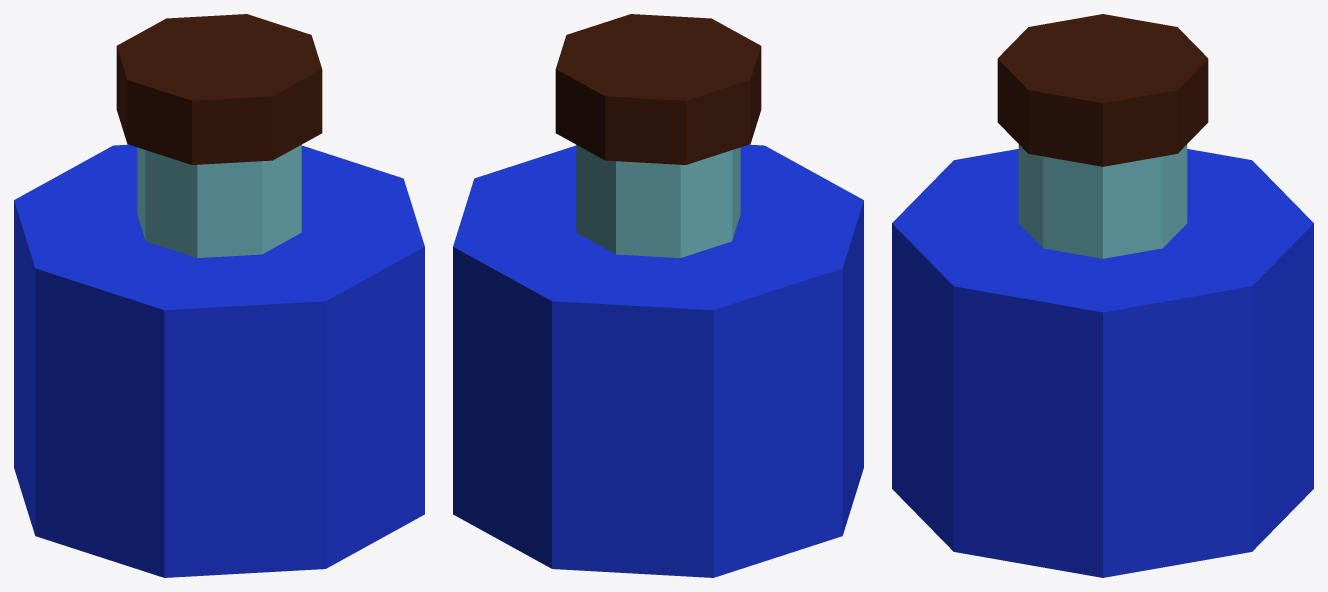
The model's file is potion_blue.obj.
The picture shows the model from 3 angles, left to right: view 1: azimuth 30°, elevation 25°; view 2: azimuth 150°, elevation 25°; view 3: azimuth 270°, elevation 25°; orthographic projection.
Parts seen in each view (by area): view 1: potion_blue; view 2: potion_blue; view 3: potion_blue.
Part boxes in pixels (left/top/right/bottom): potion_blue: left=14, top=14, right=424, bottom=577; potion_blue: left=453, top=14, right=863, bottom=577; potion_blue: left=892, top=14, right=1313, bottom=577.
Size of the model in its own units: 0.36 by 0.405 by 0.36.
